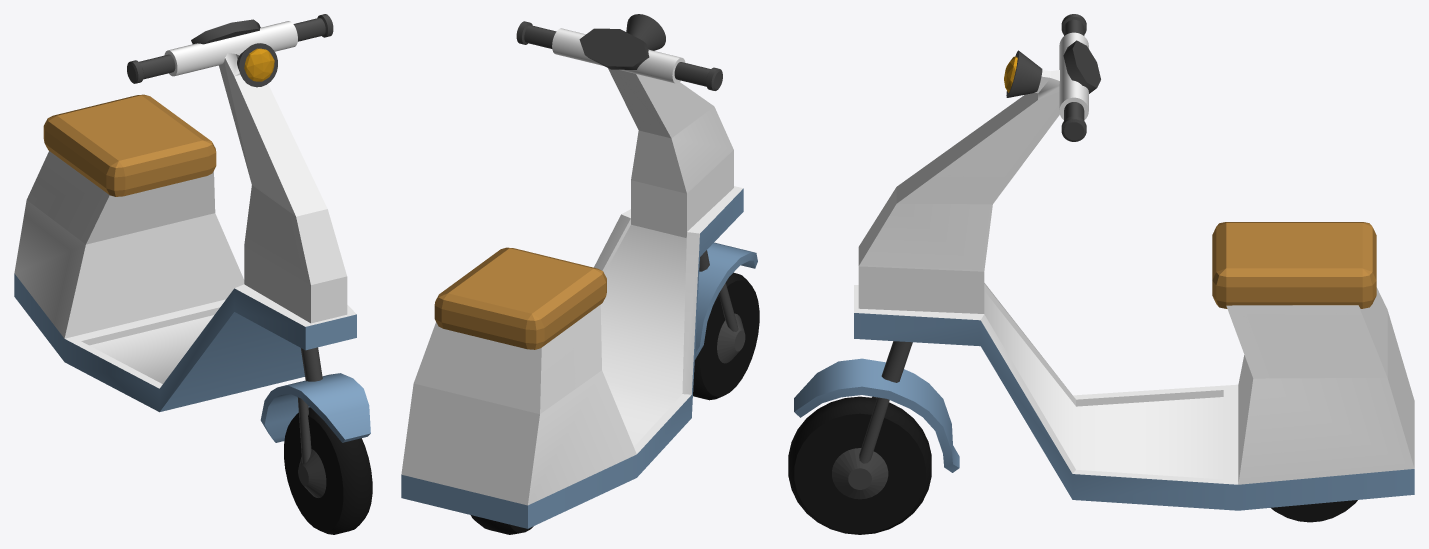
File: Scooter_1395.gltf
The picture shows the model from 3 angles, left to right: view 1: azimuth 30°, elevation 25°; view 2: azimuth 150°, elevation 25°; view 3: azimuth 270°, elevation 25°; orthographic projection. The views are drawn at different scales.
Parts seen in each view (by area): view 1: node-0; view 2: node-0; view 3: node-0.
Part boxes in pixels (bbox=[...]): node-0: bbox=[14, 14, 372, 534]; node-0: bbox=[401, 14, 759, 534]; node-0: bbox=[788, 14, 1414, 534].
Bounding box in the file's own units: 17.21 × 36.31 × 42.75.
